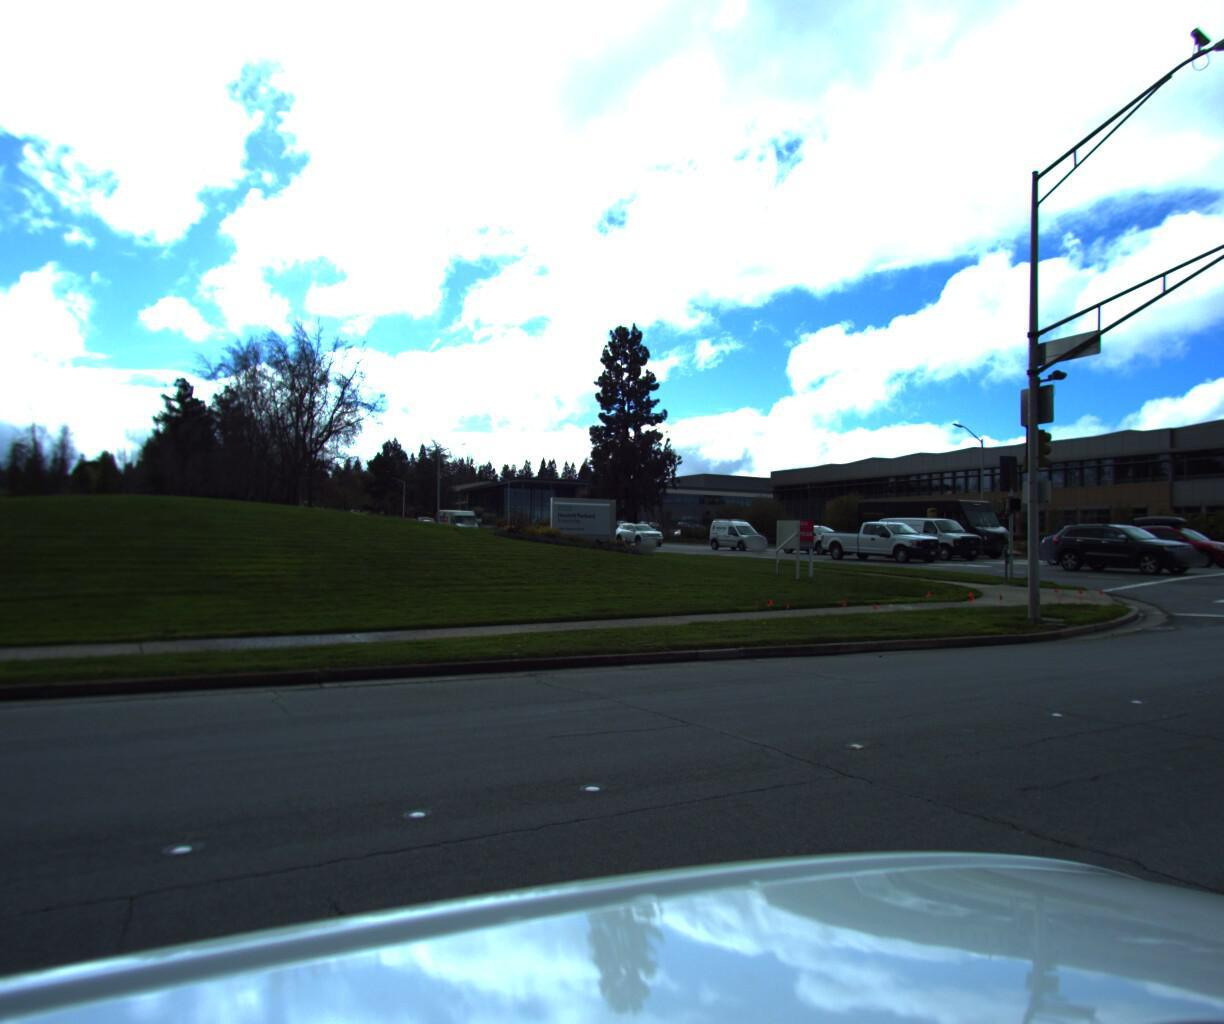car: (1036, 514, 1208, 570), (816, 514, 951, 562), (1105, 519, 1224, 570), (1022, 520, 1152, 565), (873, 513, 987, 557), (777, 517, 857, 551), (705, 511, 772, 547), (610, 516, 666, 541)
truck: (851, 490, 1023, 559), (432, 505, 485, 535)
